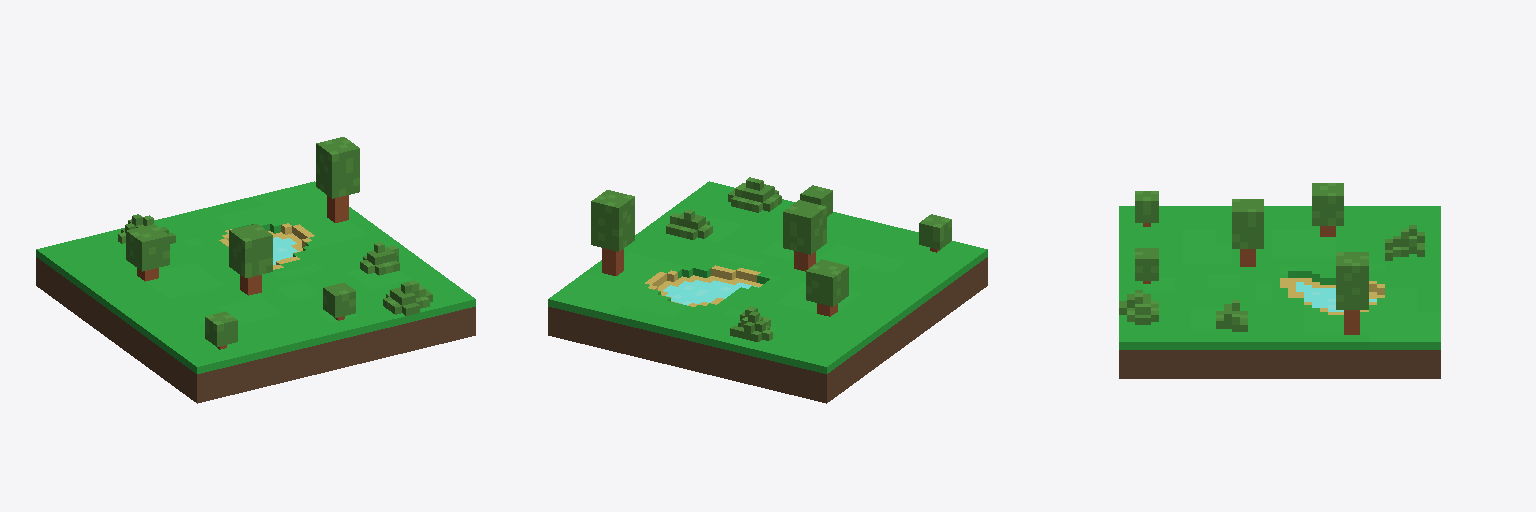
The picture shows the model from 3 angles: view 1: azimuth 30°, elevation 25°; view 2: azimuth 150°, elevation 25°; view 3: azimuth 270°, elevation 25°; orthographic projection.
Parts seen in each view (by area): view 1: object 1; view 2: object 1; view 3: object 1.
Boxes of the visible parts, <box> form: object 1: <box>36,137,475,403</box>; object 1: <box>548,177,987,403</box>; object 1: <box>1119,183,1440,378</box>.
Size of the model in its own units: 4 by 1.5 by 4.
1 materials, 1 textured.